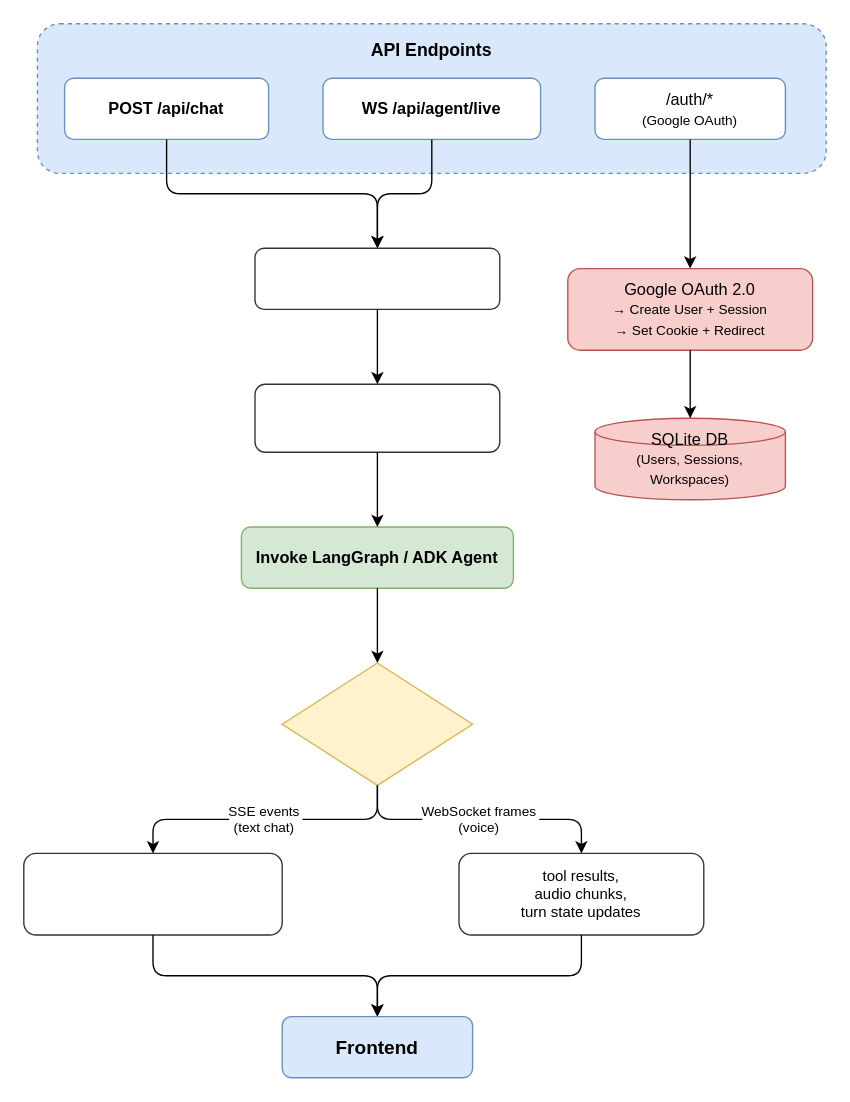
Image size: 850x1102. Some labels were removed from this diagram. The centre of each missing label's shape, as x and y in pixels:
Build AgentState (messages, tiles, provider): (377,417)
metadata, query, visualization, data_table, kpi_tile, agent_step, done: (152,893)
Stream results back: (377,723)
Validate Session Cookie: (377,278)
